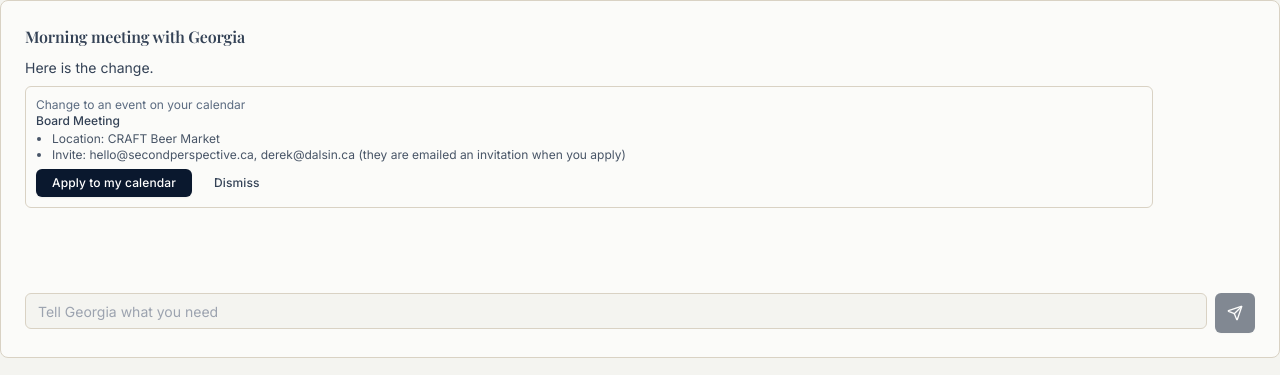
Test: changing an event on his calendar › applies it only on his click
Click the button "Apply to my calendar". click: (114, 183)
box: [36,169,192,197]
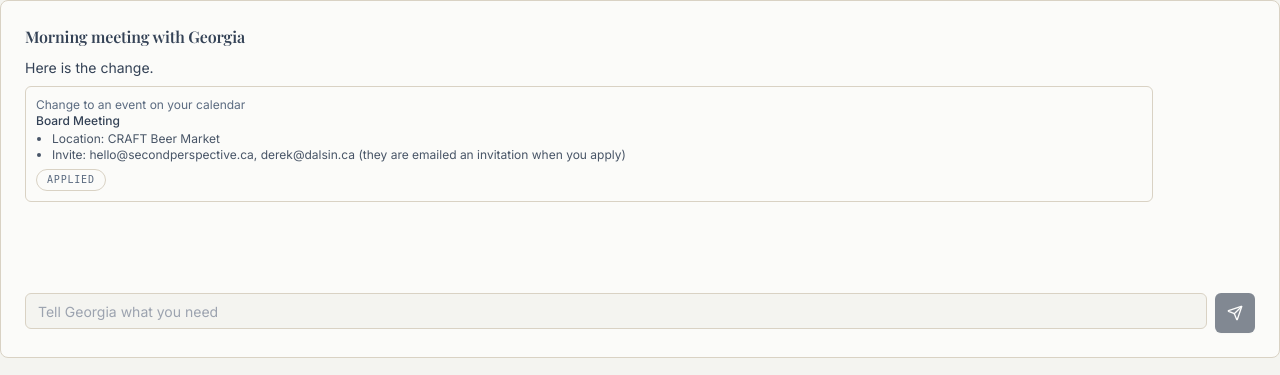
Now the text "Applied" is shown, box [36,169,106,191]
